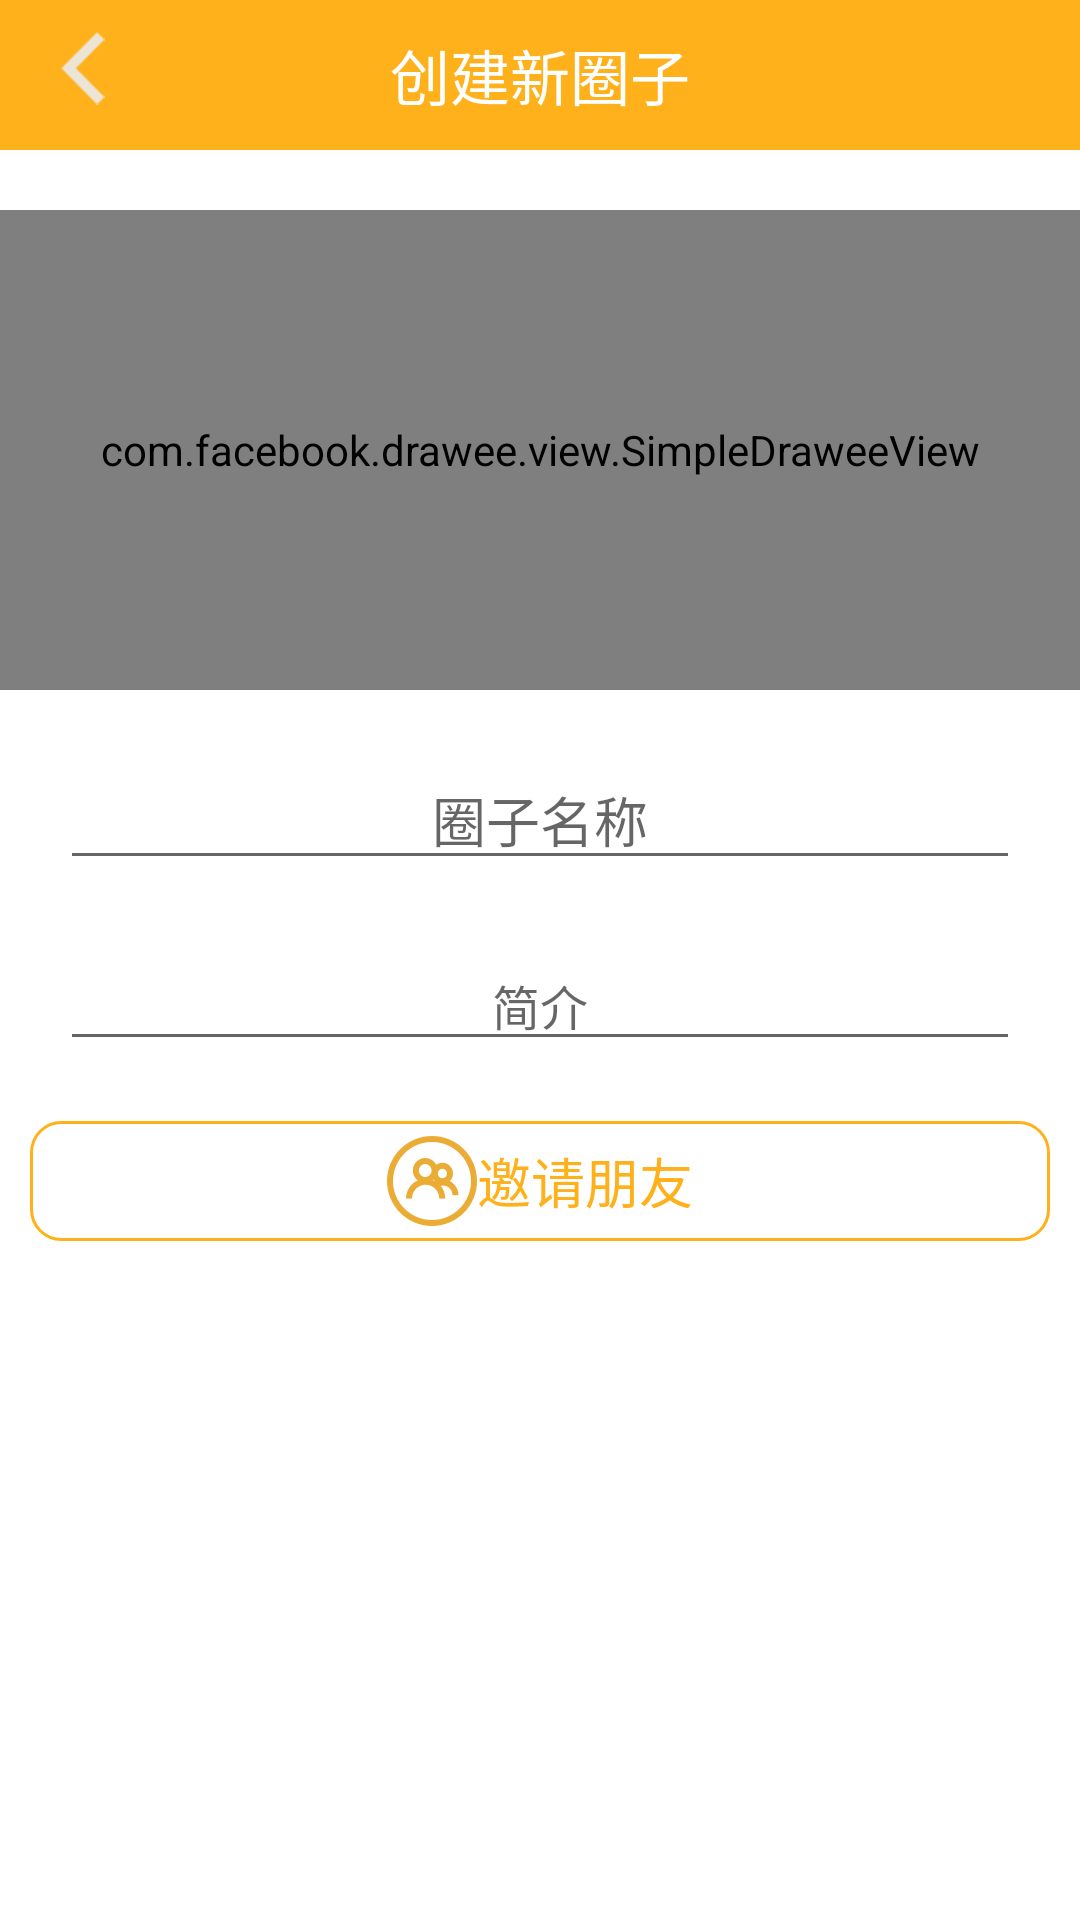

Where to tap for icons on this 1080x1920 app screen, as (x=x, y=y):
back: (x=83, y=68)
member: (x=432, y=1181)
